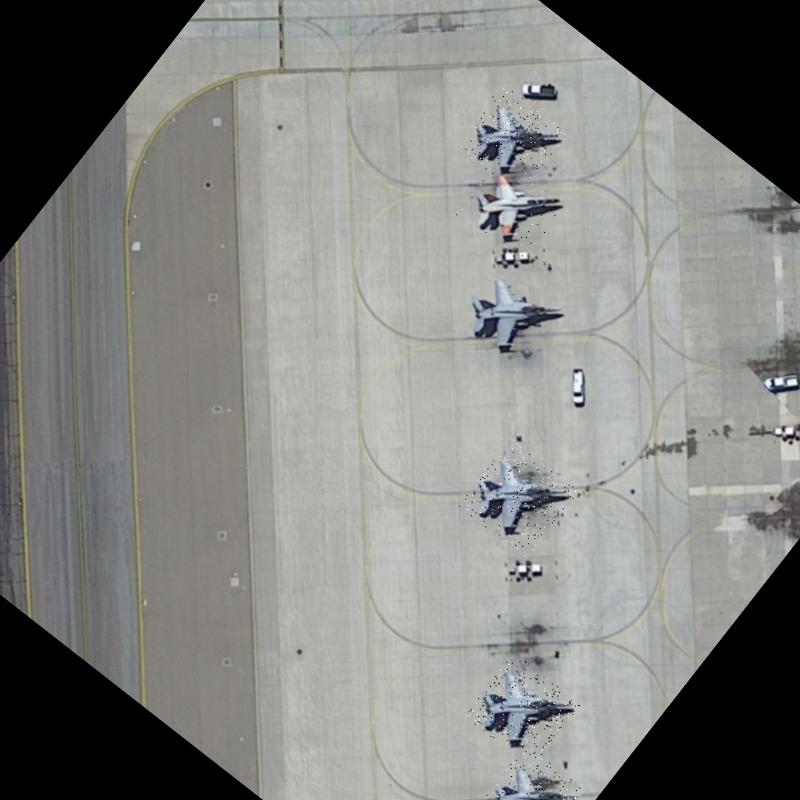A16: (450, 257, 572, 379), (457, 438, 578, 560), (464, 652, 580, 768), (455, 150, 570, 266), (454, 84, 568, 196), (476, 744, 594, 800)
